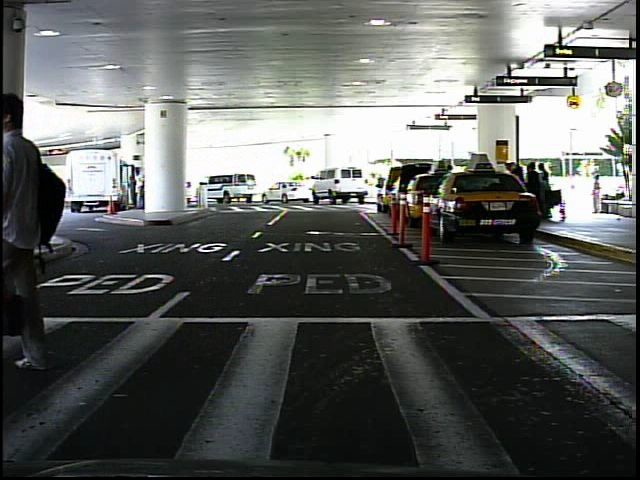person: (0, 68, 86, 386), (48, 171, 67, 221), (588, 172, 607, 218), (374, 172, 388, 198)
